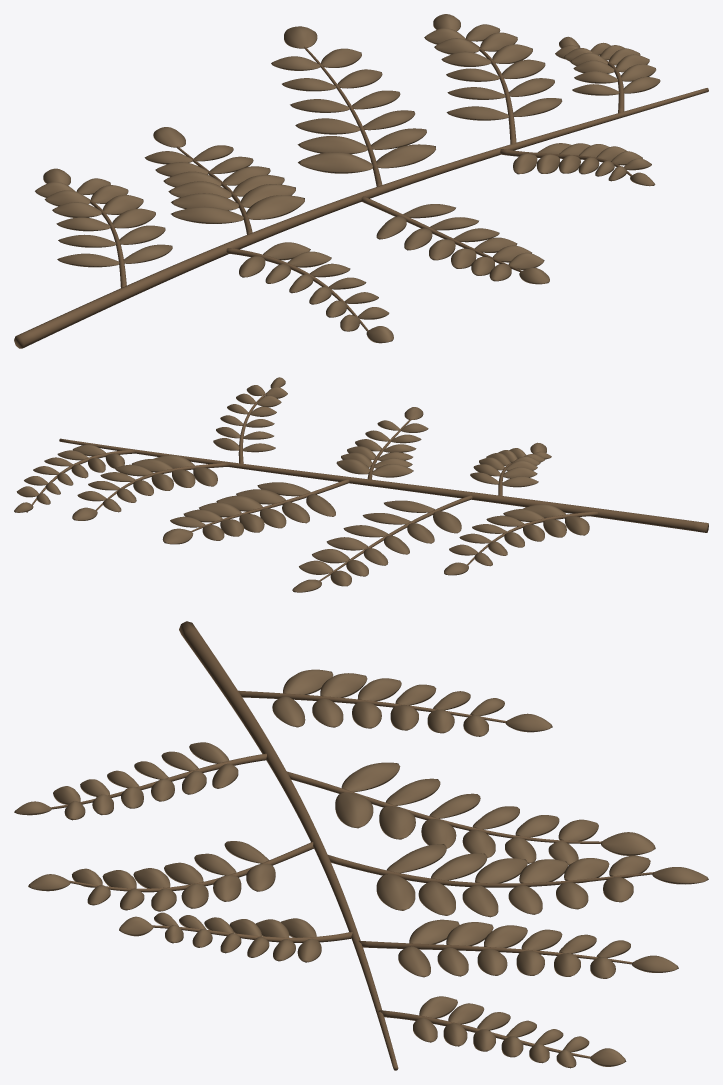
The picture shows the model from 3 angles, top to bottom: view 1: azimuth 30°, elevation 25°; view 2: azimuth 150°, elevation 25°; view 3: azimuth 270°, elevation 25°; orthographic projection. The views are drawn at different scales.
Visible parts, largest first — view 1: Pachypteris whole art foliage reconstruction; view 2: Pachypteris whole art foliage reconstruction; view 3: Pachypteris whole art foliage reconstruction.
Boxes of the visible parts, x1,y1,x2,y2 form: Pachypteris whole art foliage reconstruction: [14, 14, 708, 348]; Pachypteris whole art foliage reconstruction: [14, 377, 708, 592]; Pachypteris whole art foliage reconstruction: [14, 621, 708, 1070].
Size of the model in its own units: 0.218 by 0.017 by 0.1471.
